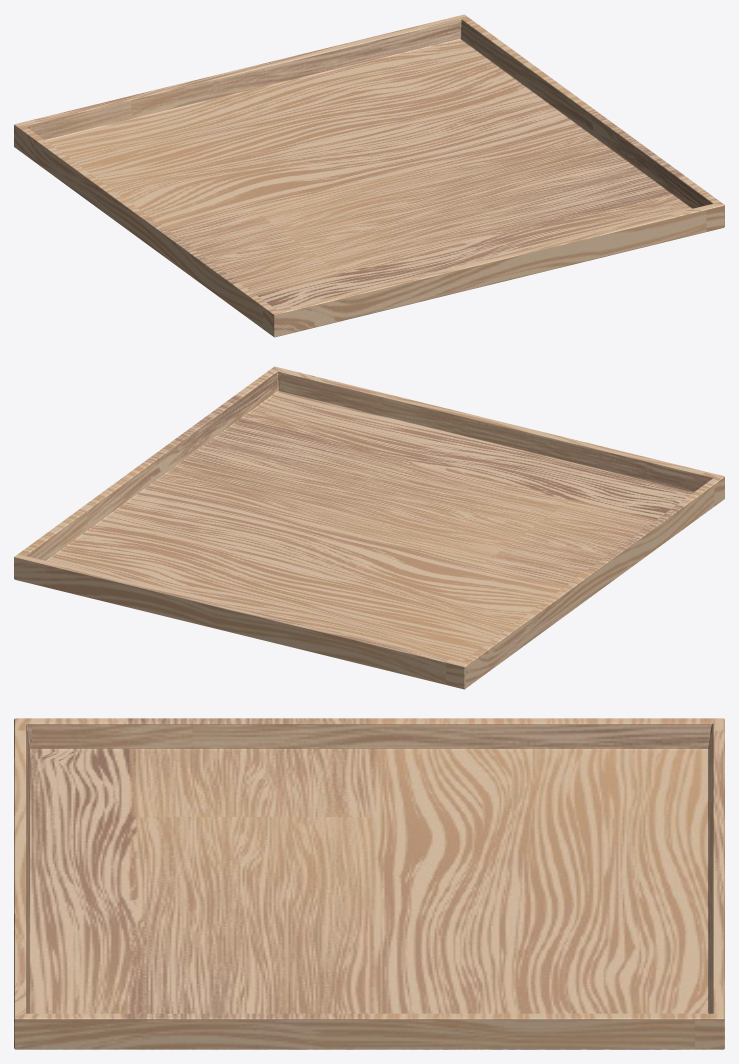
Rendered from Wood Grid 2.fbx.
The picture shows the model from 3 angles, top to bottom: view 1: azimuth 30°, elevation 25°; view 2: azimuth 150°, elevation 25°; view 3: azimuth 270°, elevation 25°; orthographic projection. The views are drawn at different scales.
Visible parts, largest first — view 1: Cube.001; view 2: Cube.001; view 3: Cube.001.
Boxes of the visible parts, x1,y1,x2,y2 form: Cube.001: [14, 14, 724, 337]; Cube.001: [14, 366, 724, 689]; Cube.001: [14, 718, 724, 1049].
Bounding box in the file's own units: 2000 × 98.73 × 2000.
1 material, 1 textured.
